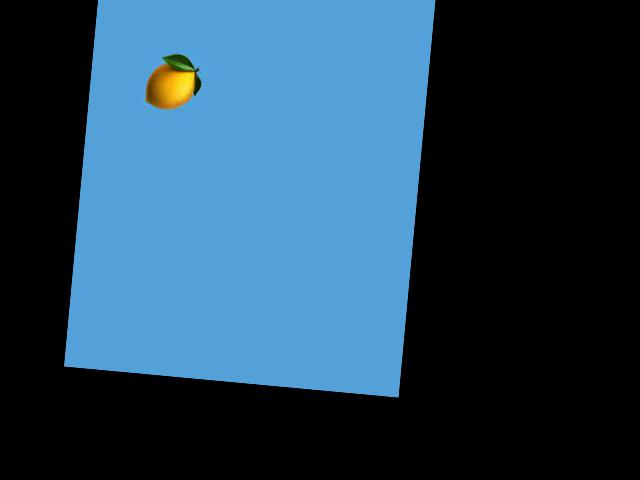lemon: (131, 48, 207, 125)
